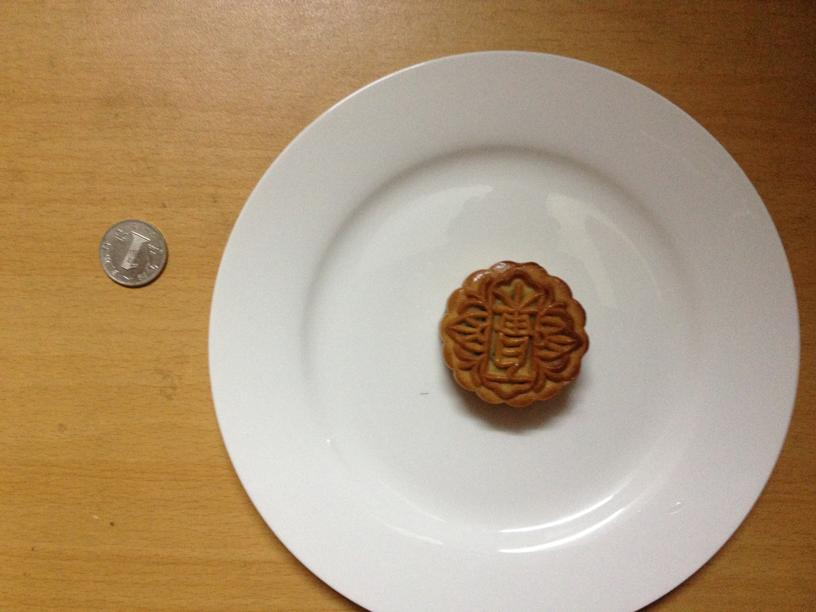coin: (98, 218, 167, 288)
mooncake: (438, 261, 589, 407)
